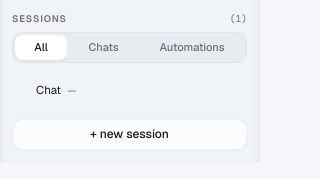
it: SessionSidebar — filter and automation groups › an empty filter says so instead of showing a blank list
Click the tab with test id "session-filter-automations" at (192, 48), box [140,35,244,60]
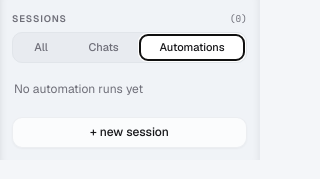
Expected: the text with test id "session-empty" reads "No automation runs yet", [14,81,143,97]
